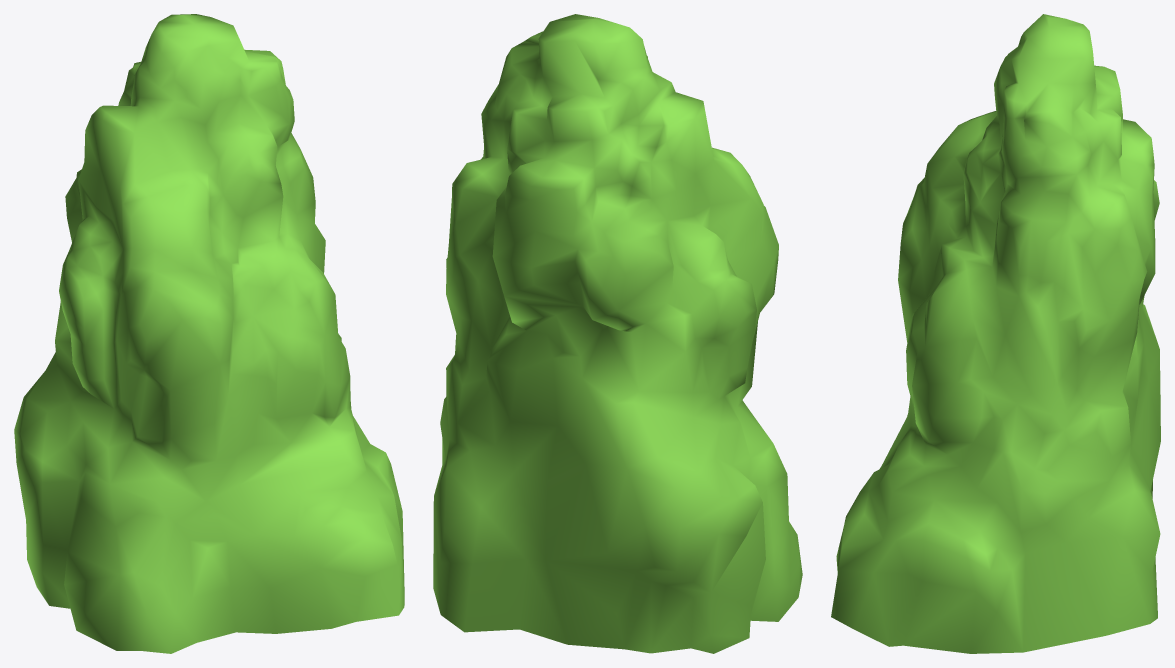
Rendered from rock_02.FBX.
3 renders of one model, left to right at view 1: azimuth 30°, elevation 25°; view 2: azimuth 150°, elevation 25°; view 3: azimuth 270°, elevation 25°, orthographic. The views are drawn at different scales.
Parts seen in each view (by area): view 1: rock_02; view 2: rock_02; view 3: rock_02.
Part boxes in pixels (<box>): rock_02: <box>14,14,404,653</box>; rock_02: <box>433,14,802,653</box>; rock_02: <box>831,14,1160,653</box>.
Bounding box in the file's own units: 401 × 667 × 357.
